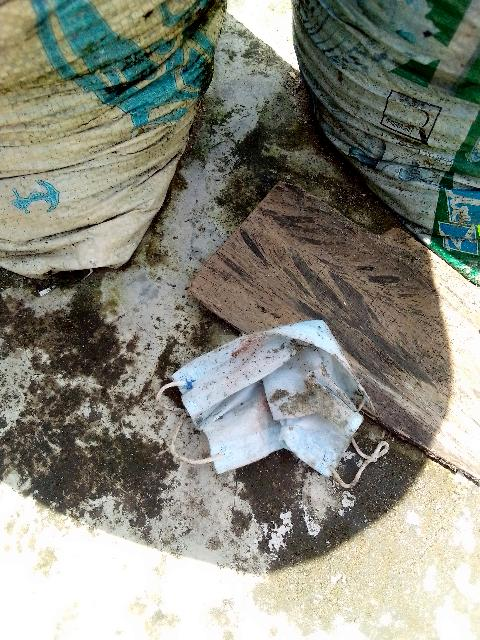mask: (174, 314, 389, 458)
